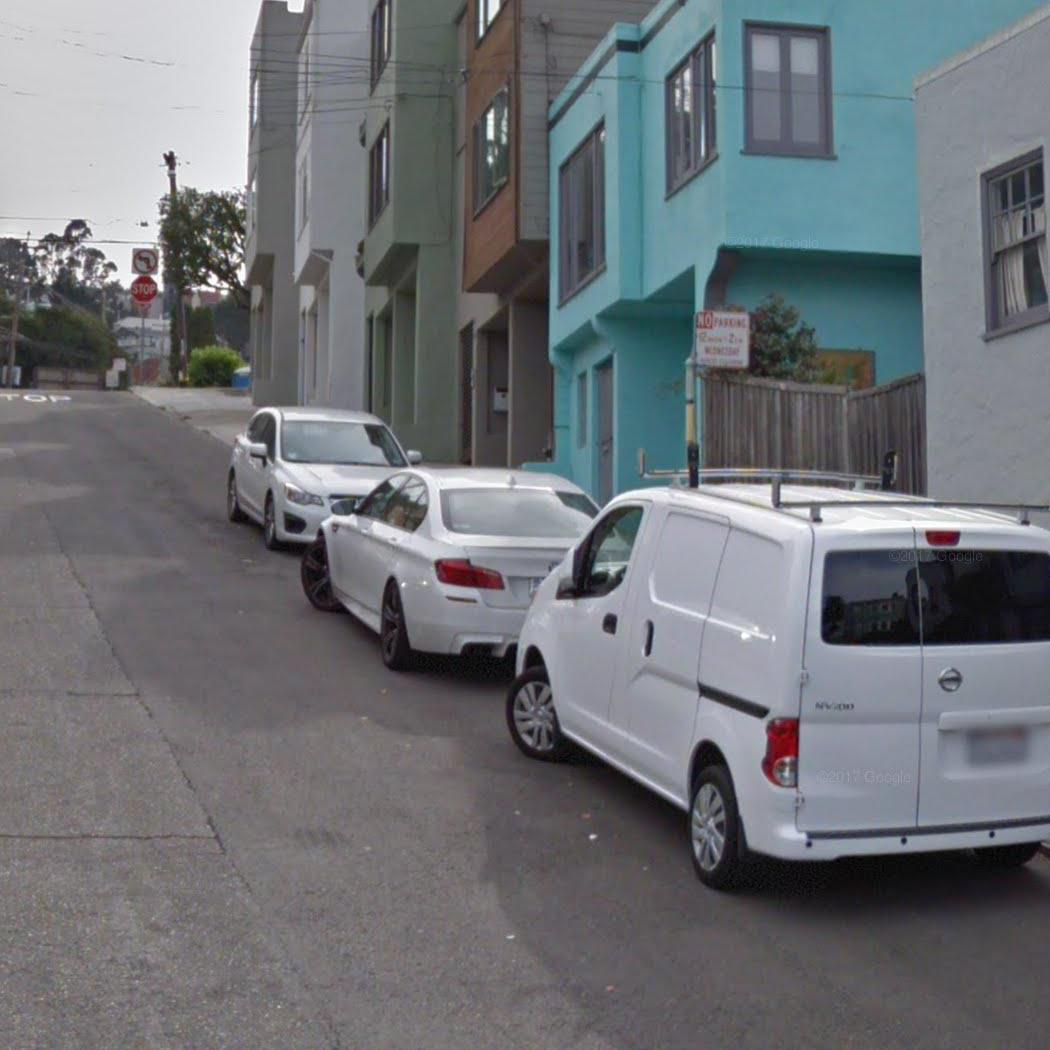No Parking: (690, 308, 753, 372)
